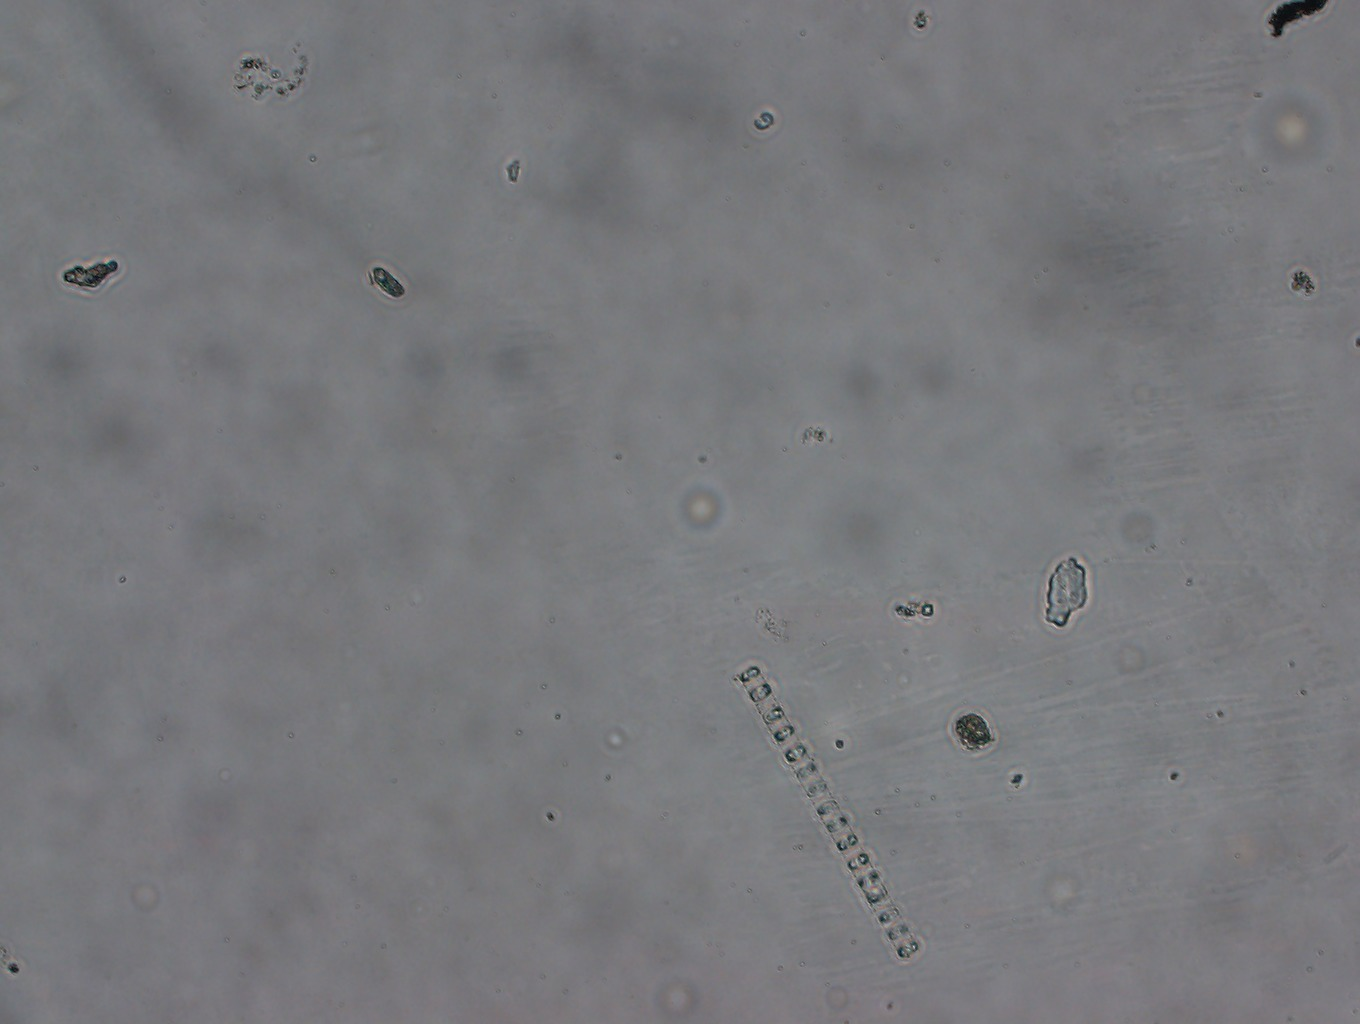skeletonema: (735, 665, 919, 964)
